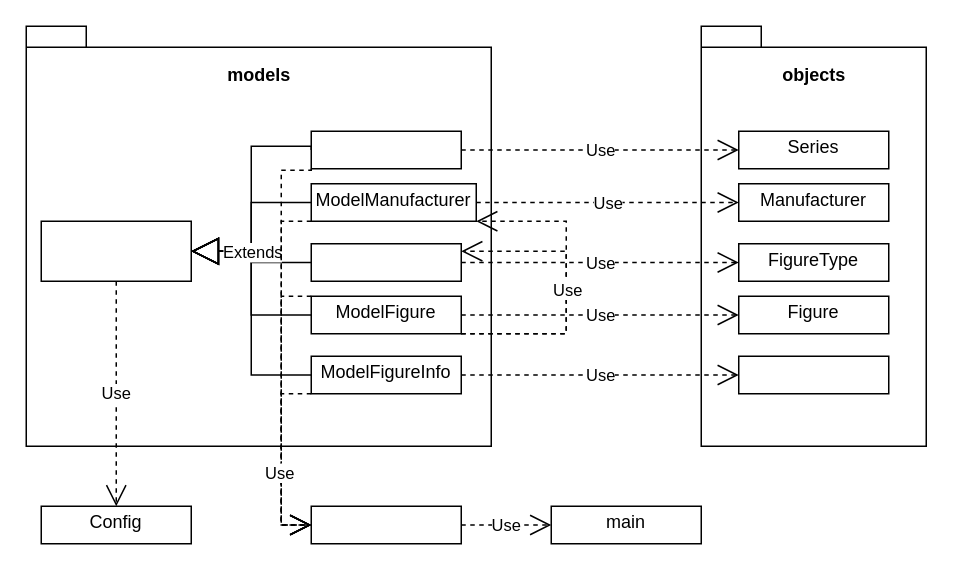
This 953x573 diagram has some shape labels left out. Here are the shapes that lost their labels. From the top down, the centre of each, then its label:
the point at 385,149: ModelSeries
the point at 115,250: Database
the point at 385,261: ModelFigureType
the point at 813,374: FigureCard
the point at 385,524: App
